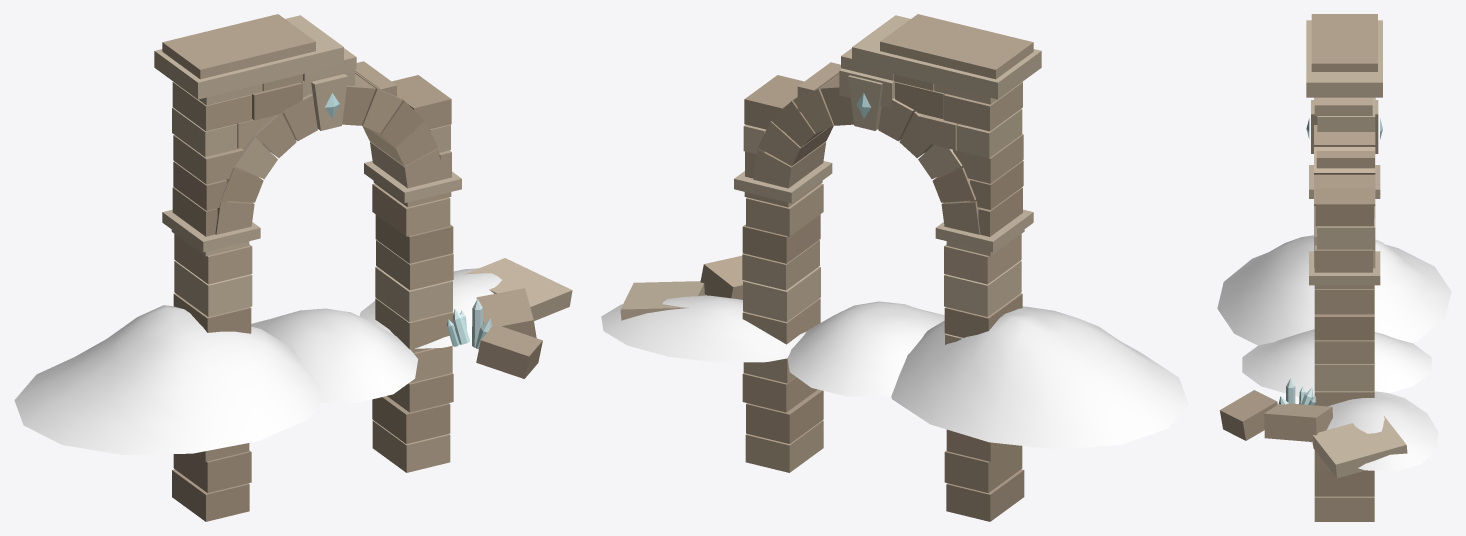
The model's file is ruinas_arco.glb.
3 renders of one model, left to right at view 1: azimuth 30°, elevation 25°; view 2: azimuth 150°, elevation 25°; view 3: azimuth 270°, elevation 25°, orthographic. The views are drawn at different scales.
Parts seen in each view (by area): view 1: ruinas_arco, ruinas_arco_arena; view 2: ruinas_arco, ruinas_arco_arena; view 3: ruinas_arco, ruinas_arco_arena.
Part boxes in pixels (x1,y1,x2,y2): ruinas_arco: (154, 14, 572, 521); ruinas_arco_arena: (14, 268, 501, 454); ruinas_arco: (620, 14, 1041, 521); ruinas_arco_arena: (601, 295, 1188, 449); ruinas_arco: (1219, 14, 1407, 521); ruinas_arco_arena: (1217, 235, 1451, 471).
Bounding box in the file's own units: 10.75 × 8.64 × 4.59.
